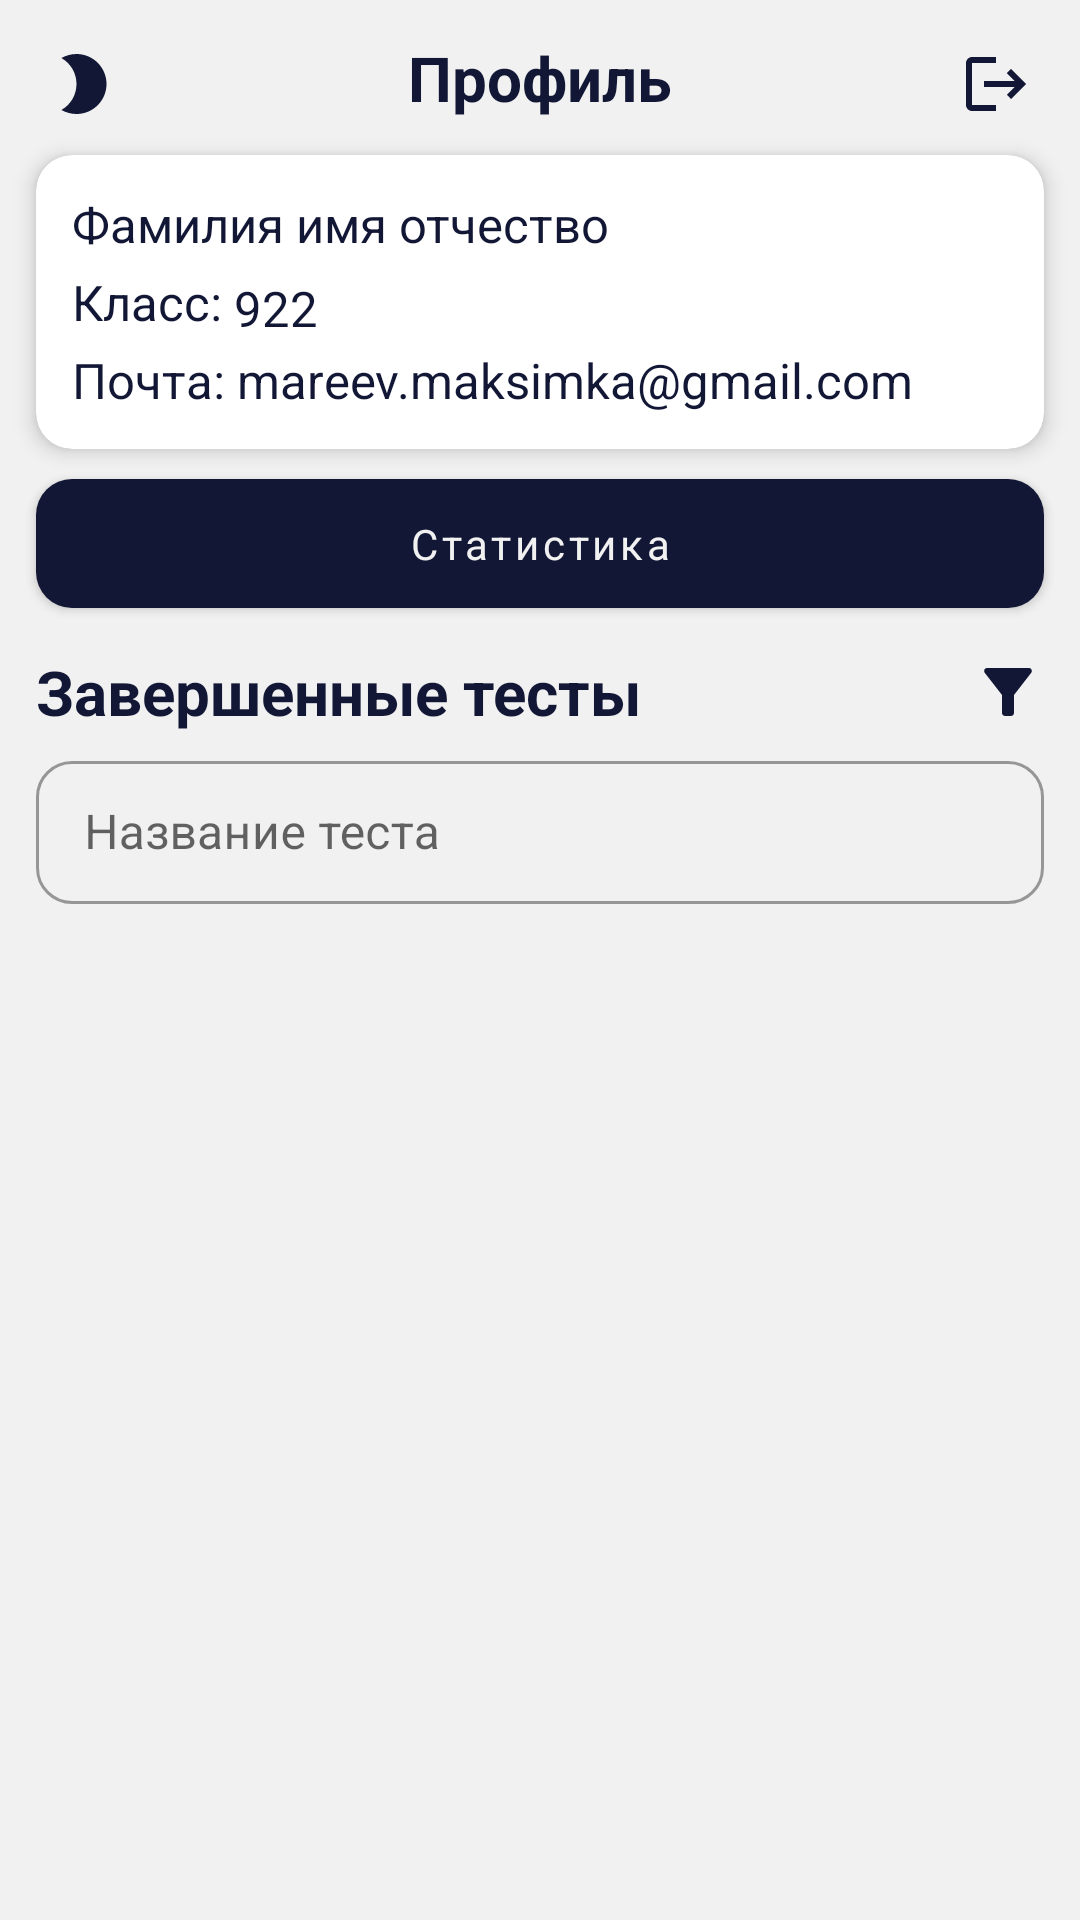

Screen size 1080*1920. Icon name, then its center in pixels as (x=x, y=y):
filter: (x=1008, y=692)
mode night: (x=84, y=84)
